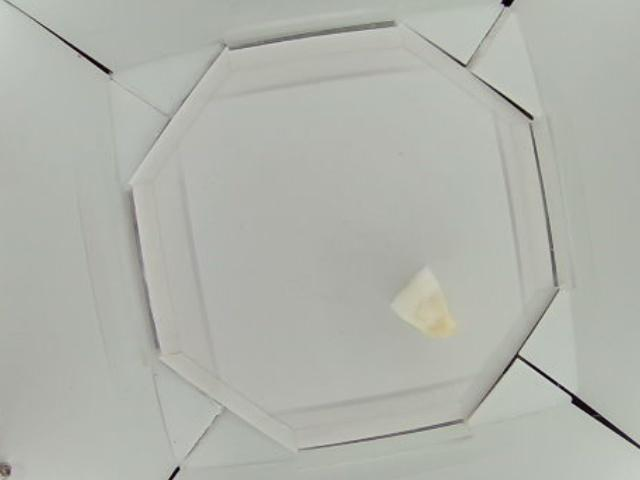Mooli: (391, 269, 456, 339)
